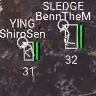hacks_1: (35, 1, 91, 64), (1, 18, 45, 78)
